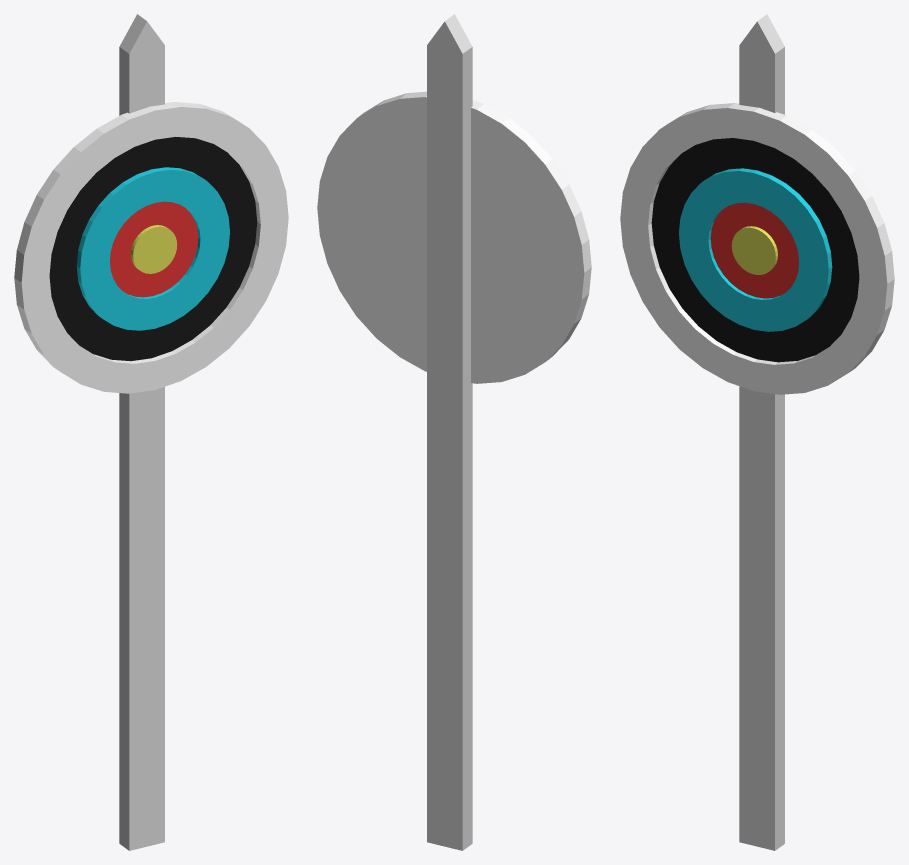
The model's file is target02.fbx.
3 renders of one model, left to right at view 1: azimuth 30°, elevation 25°; view 2: azimuth 150°, elevation 25°; view 3: azimuth 330°, elevation 25°, orthographic.
Visible parts, largest first — view 1: Cylinder, Cube; view 2: Cylinder, Cube; view 3: Cylinder, Cube.
Boxes of the visible parts, x1,y1,x2,y2 form: Cylinder: (14, 102, 288, 393); Cube: (119, 14, 164, 850); Cylinder: (317, 91, 591, 383); Cube: (427, 14, 472, 850); Cylinder: (620, 103, 894, 394); Cube: (739, 14, 784, 850).
Size of the model in its own units: 85.65 by 253 by 8.69.
